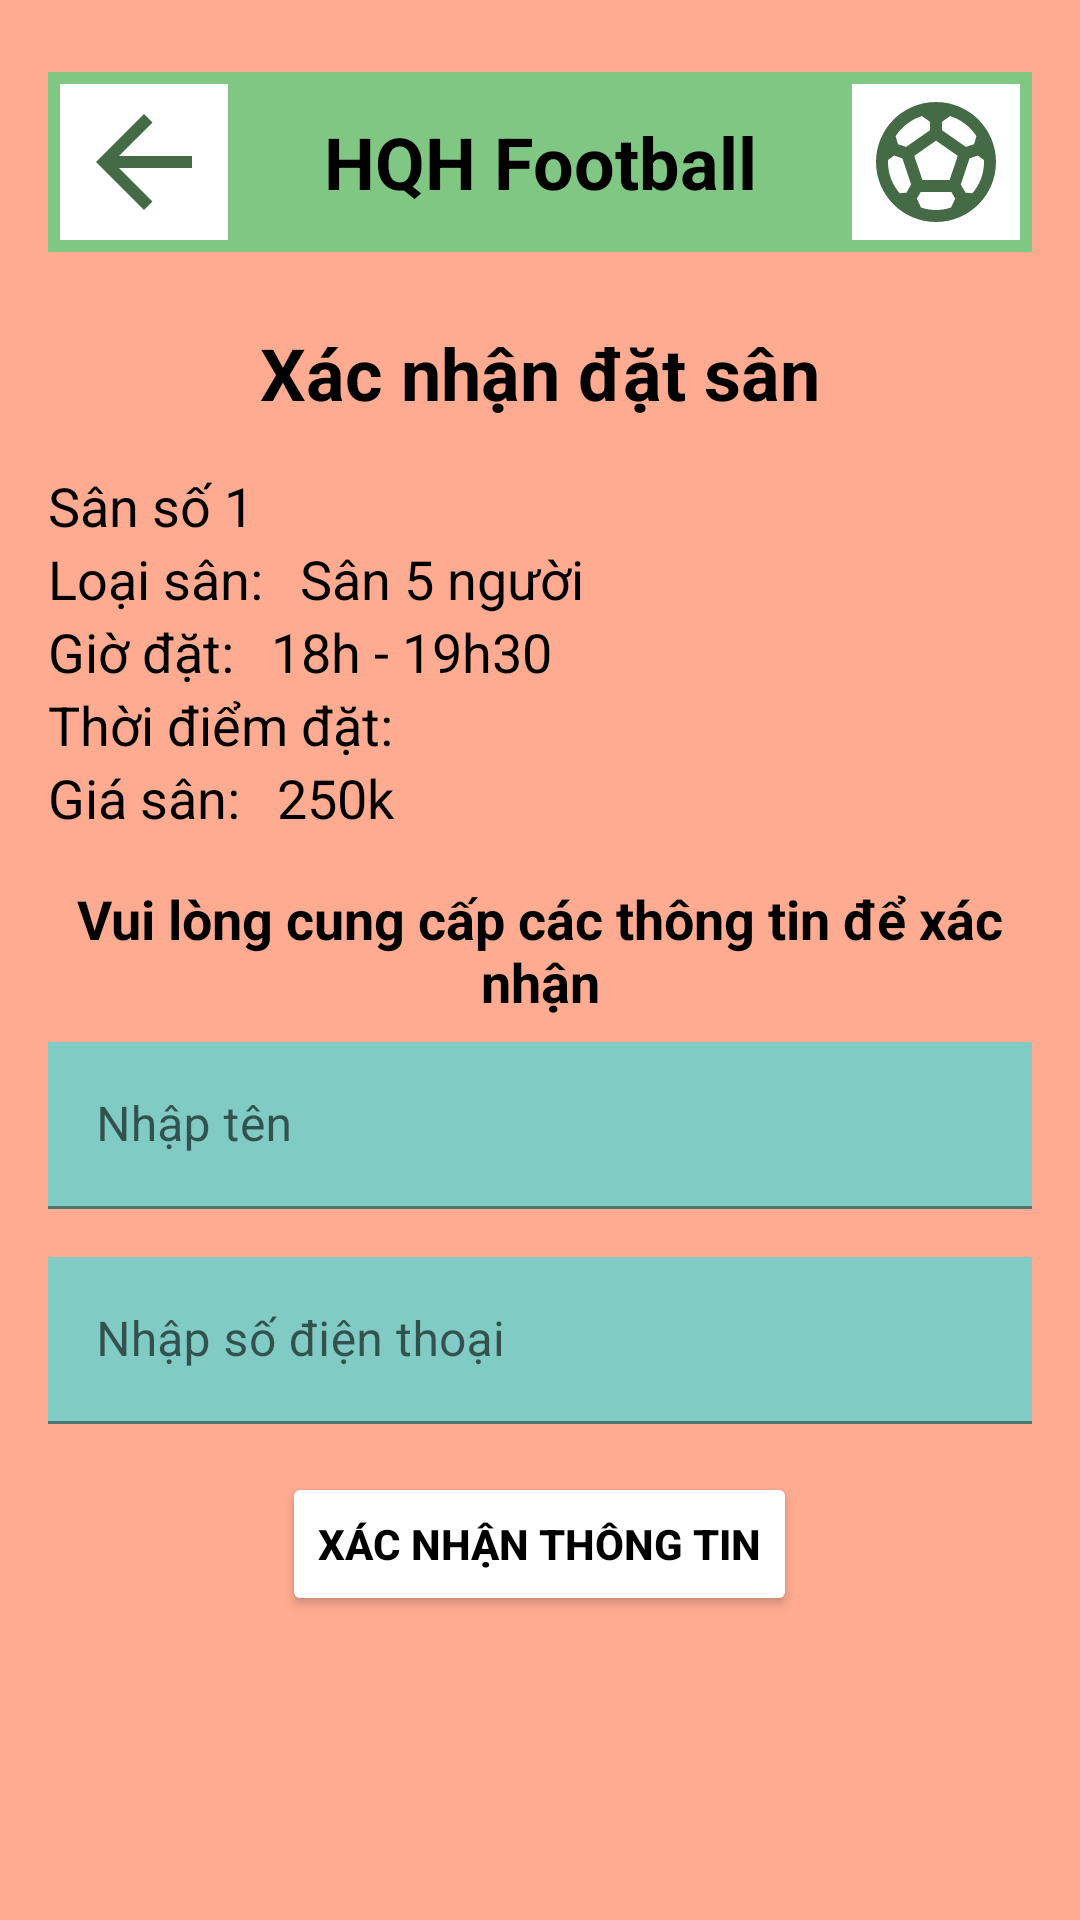

Named icons in this screenshot (1080x1920) and their centers, point (x, y):
back: point (144, 162)
soccer: point (936, 162)
